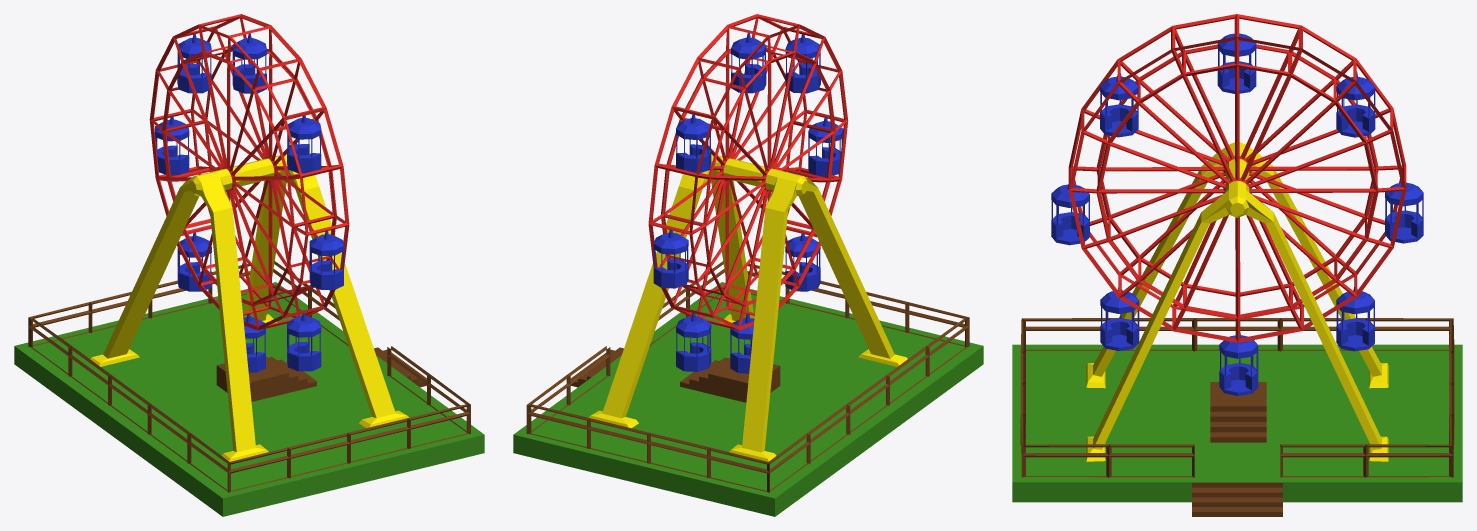
File: grande-roue.glb
3 views of the same model, side by side, from view 1: azimuth 30°, elevation 25°; view 2: azimuth 150°, elevation 25°; view 3: azimuth 270°, elevation 25° (orthographic). The views are drawn at different scales.
Visible parts, largest first — view 1: floor, wheel, structure, fence, stairs.001, cabin.003, cabin.002, cabin.001, cabin, cabin.007, cabin.006, cabin.005 (+1 smaller); view 2: floor, wheel, structure, fence, stairs.001, cabin.006, cabin.005, cabin.007, cabin, cabin.001, cabin.003, cabin.002 (+2 smaller); view 3: floor, wheel, structure, fence, stairs, stairs.001, cabin.004, cabin.003, cabin.005, cabin.002, cabin.006, cabin.007 (+2 smaller).
Boxes of the visible parts, x1,y1,x2,y2 form: floor: [14, 282, 484, 516]; wheel: [149, 14, 349, 330]; structure: [90, 154, 408, 461]; fence: [28, 261, 470, 492]; stairs.001: [216, 356, 316, 401]; cabin.003: [287, 310, 321, 371]; cabin.002: [309, 230, 343, 289]; cabin.001: [287, 115, 321, 173]; cabin: [232, 33, 266, 93]; cabin.007: [177, 34, 211, 93]; cabin.006: [155, 114, 189, 175]; cabin.005: [177, 231, 211, 291]; floor: [513, 282, 983, 516]; wheel: [648, 14, 848, 330]; structure: [588, 154, 907, 461]; fence: [526, 261, 969, 492]; stairs.001: [680, 357, 780, 402]; cabin.006: [653, 229, 688, 288]; cabin.005: [676, 313, 711, 371]; cabin.007: [676, 113, 711, 173]; cabin: [731, 33, 766, 93]; cabin.001: [785, 33, 820, 93]; cabin.003: [785, 231, 820, 291]; cabin.002: [808, 117, 843, 176]; floor: [1012, 344, 1462, 502]; wheel: [1068, 14, 1406, 342]; structure: [1086, 142, 1388, 461]; fence: [1020, 318, 1454, 477]; stairs: [1192, 482, 1282, 516]; stairs.001: [1210, 382, 1266, 442]; cabin.004: [1219, 333, 1258, 395]; cabin.003: [1100, 284, 1139, 350]; cabin.005: [1336, 287, 1374, 351]; cabin.002: [1051, 184, 1089, 245]; cabin.006: [1385, 182, 1423, 243]; cabin.007: [1336, 71, 1375, 137].
Size of the model in its own units: 15.13 by 18.85 by 18.84.
